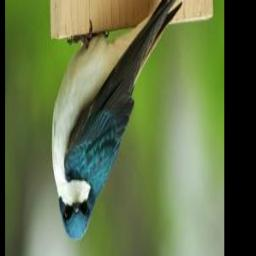Swallow: (51, 0, 186, 243)
